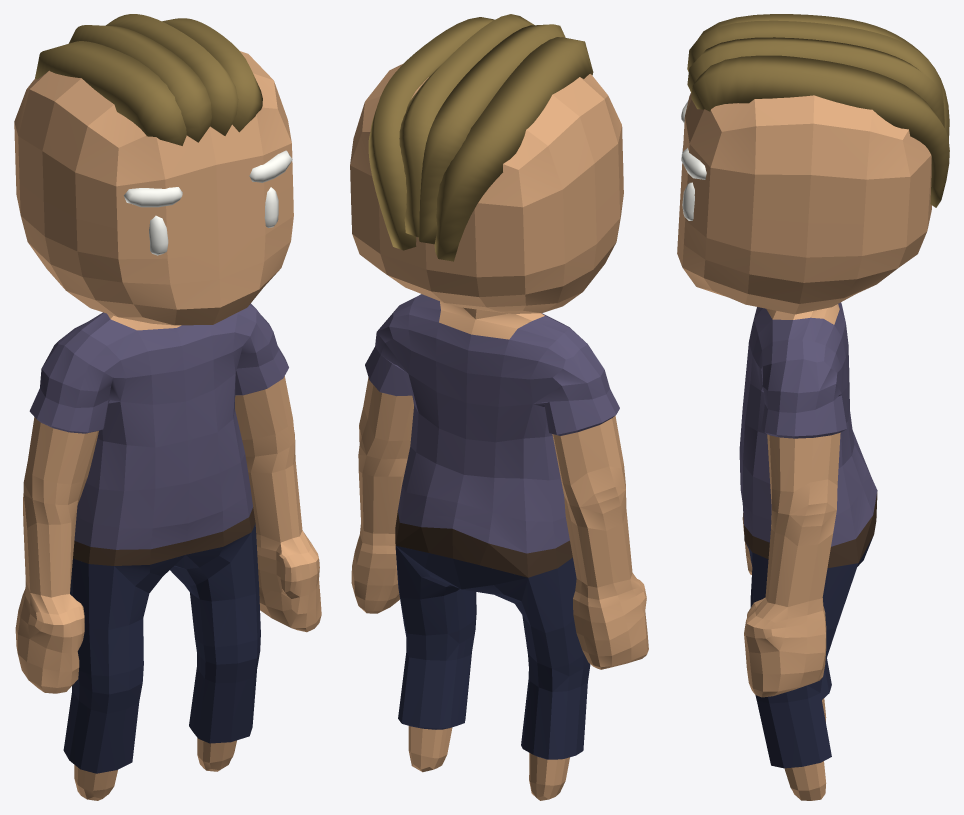
Rendered from debout-casual2-male.glb.
The picture shows the model from 3 angles, left to right: view 1: azimuth 30°, elevation 25°; view 2: azimuth 150°, elevation 25°; view 3: azimuth 270°, elevation 25°; orthographic projection.
Visible parts, largest first — view 1: Cube004, Cube004_1, Cube004_2, Cube004_5, Cube004_3, Cube004_4; view 2: Cube004, Cube004_1, Cube004_5, Cube004_2, Cube004_3; view 3: Cube004, Cube004_5, Cube004_1, Cube004_2, Cube004_3, Cube004_4.
Boxes of the visible parts, x1,y1,x2,y2 form: Cube004: (14, 51, 321, 800); Cube004_1: (29, 303, 288, 549); Cube004_2: (63, 523, 260, 773); Cube004_5: (35, 14, 262, 145); Cube004_3: (73, 507, 255, 565); Cube004_4: (123, 150, 292, 255); Cube004: (350, 64, 648, 800); Cube004_1: (365, 294, 619, 553); Cube004_5: (368, 14, 593, 261); Cube004_2: (395, 546, 590, 759); Cube004_3: (395, 510, 572, 577); Cube004: (677, 93, 931, 800); Cube004_5: (687, 14, 949, 207); Cube004_1: (739, 302, 877, 546); Cube004_2: (745, 535, 873, 768); Cube004_3: (744, 492, 877, 567); Cube004_4: (681, 101, 706, 220).
Size of the model in its own units: 0.7209 by 1.77 by 0.5912.
